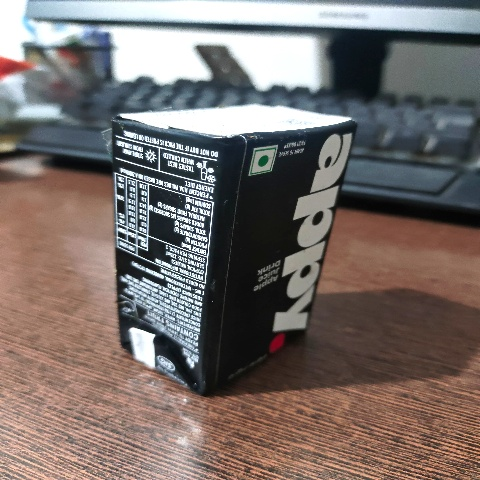appy: (92, 96, 364, 406)
